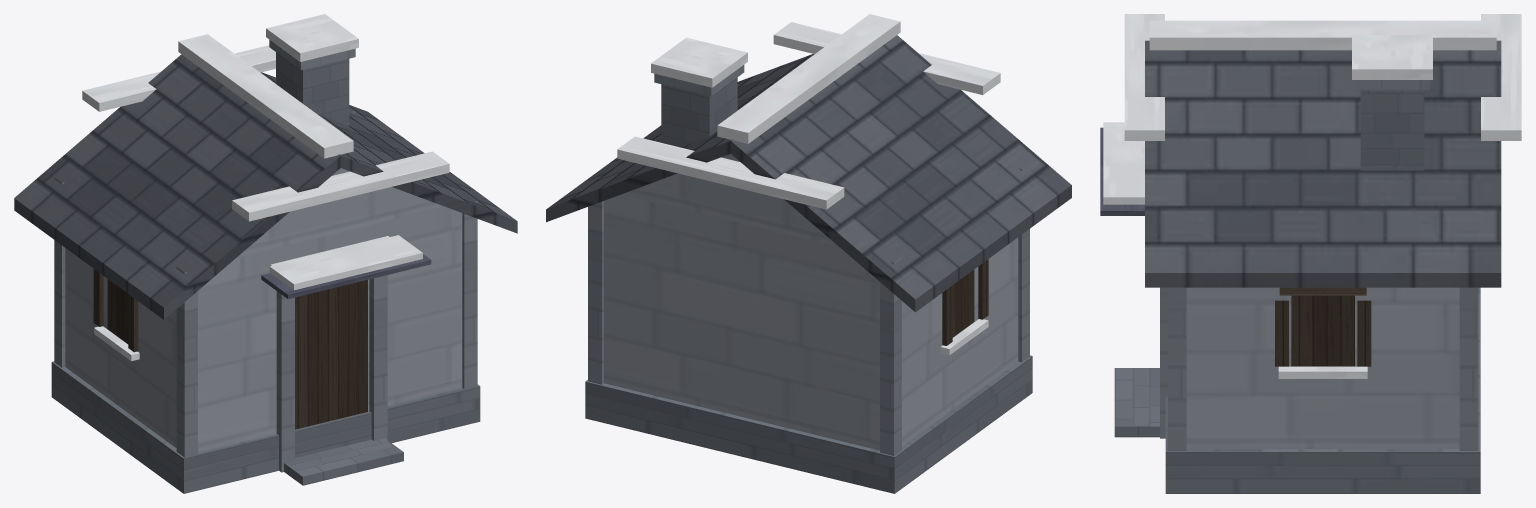
The model's file is ae_snow_stone_small_booth_lod0.glb.
3 views of the same model, side by side, from view 1: azimuth 30°, elevation 25°; view 2: azimuth 150°, elevation 25°; view 3: azimuth 270°, elevation 25° (orthographic). The views are drawn at different scales.
Parts seen in each view (by area): view 1: ae_snow_stone_small_booth_lod0; view 2: ae_snow_stone_small_booth_lod0; view 3: ae_snow_stone_small_booth_lod0.
Boxes of the visible parts, x1,y1,x2,y2 form: ae_snow_stone_small_booth_lod0: (14, 14, 517, 493); ae_snow_stone_small_booth_lod0: (546, 14, 1071, 493); ae_snow_stone_small_booth_lod0: (1100, 14, 1521, 493).
Bounding box in the file's own units: 4.2 × 3.81 × 3.64.
Materials: 1 (1 with a texture image).
